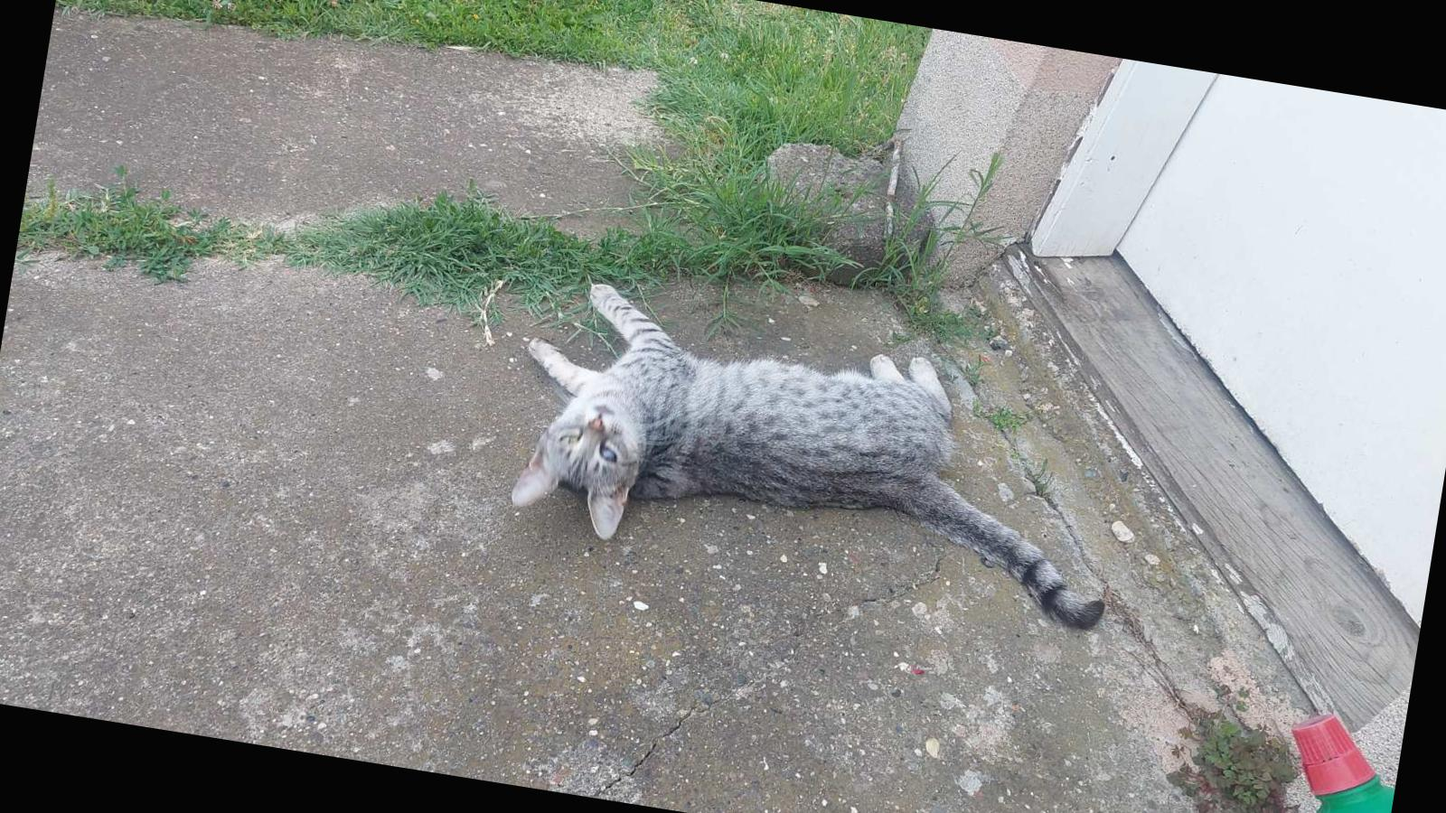macka: (495, 271, 1141, 635)
